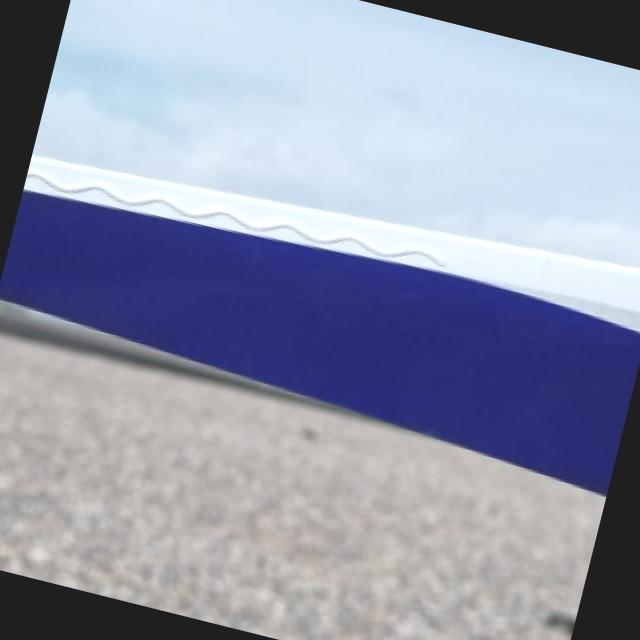healthy: (0, 156, 640, 490)
